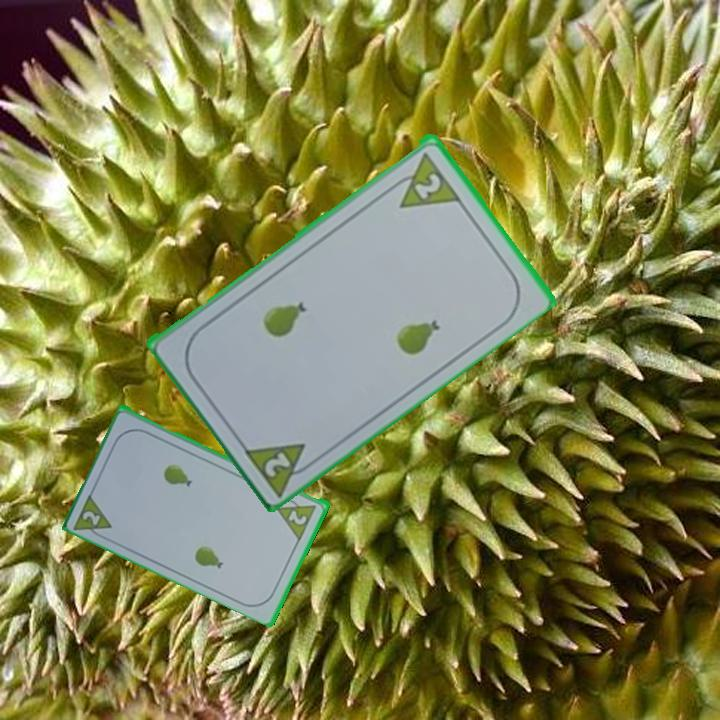2p: (238, 438, 321, 498), (274, 492, 320, 542), (410, 168, 445, 202), (79, 507, 104, 528)
